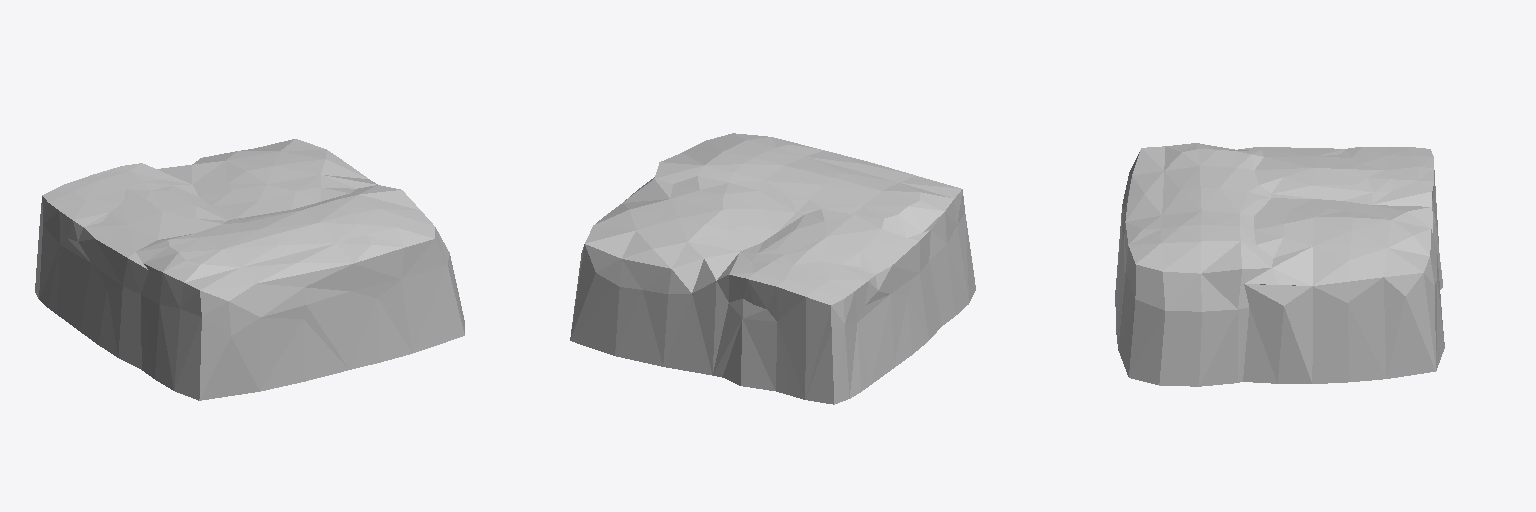
Rendered from SM_Rock_02.obj.
3 renders of one model, left to right at view 1: azimuth 30°, elevation 25°; view 2: azimuth 150°, elevation 25°; view 3: azimuth 270°, elevation 25°, orthographic.
Parts seen in each view (by area): view 1: polySurface6; view 2: polySurface6; view 3: polySurface6.
Boxes of the visible parts, box(x1,y1,x2,y2) form: polySurface6: box(35, 139, 464, 400); polySurface6: box(570, 133, 975, 404); polySurface6: box(1115, 143, 1444, 386).
Bounding box in the file's own units: 429 × 155 × 406.